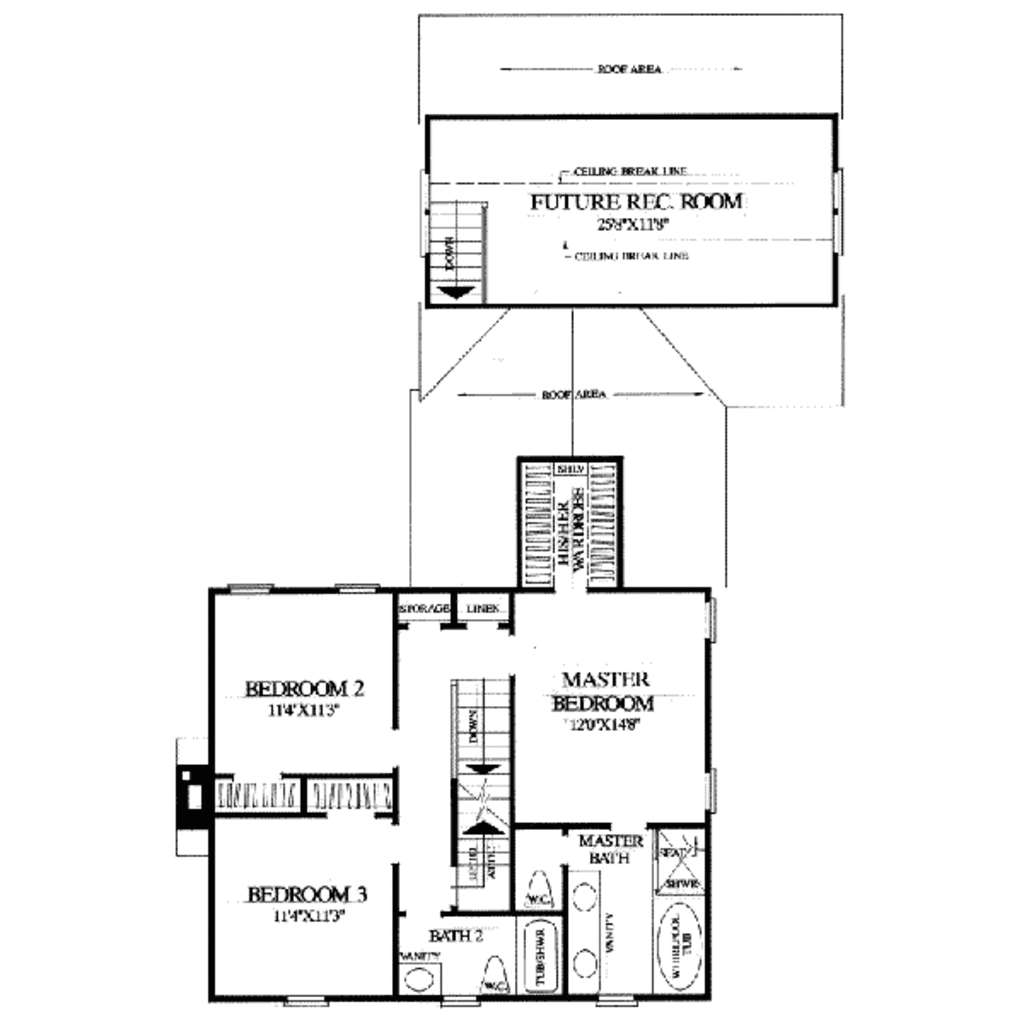large_sink: (520, 868, 562, 913), (475, 950, 512, 996)
small_sink: (568, 865, 601, 1003), (396, 959, 444, 994)
stairs: (449, 674, 514, 911), (423, 198, 488, 306)
tub: (652, 894, 710, 1001), (514, 911, 563, 998)
window: (829, 163, 848, 260), (322, 578, 382, 599), (698, 594, 721, 648), (700, 764, 719, 820), (225, 578, 279, 597), (283, 994, 333, 1014)
